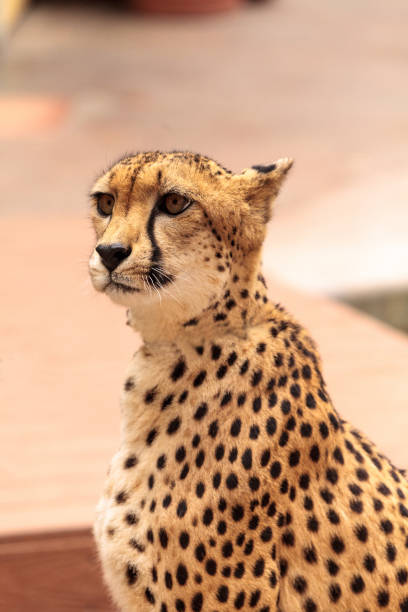cheetah: (59, 127, 309, 350)
